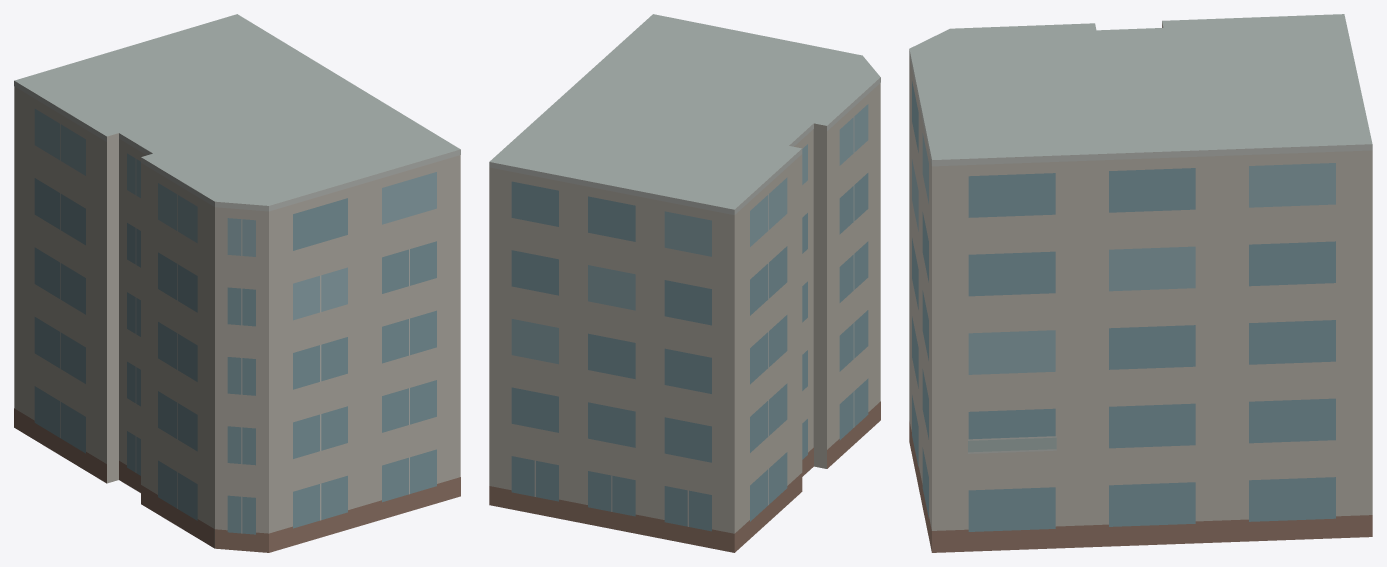
File: survey-upis-32724827.glb
3 views of the same model, side by side, from view 1: azimuth 30°, elevation 25°; view 2: azimuth 150°, elevation 25°; view 3: azimuth 270°, elevation 25° (orthographic). The views are drawn at different scales.
Parts seen in each view (by area): view 1: survey-upis-32724827.tmp; view 2: survey-upis-32724827.tmp; view 3: survey-upis-32724827.tmp.
Part boxes in pixels (x1,y1,x2,y2): survey-upis-32724827.tmp: (14,14,460,552); survey-upis-32724827.tmp: (489,14,880,552); survey-upis-32724827.tmp: (909,14,1372,552).
Bounding box in the file's own units: 12.18 × 15.25 × 16.31.
